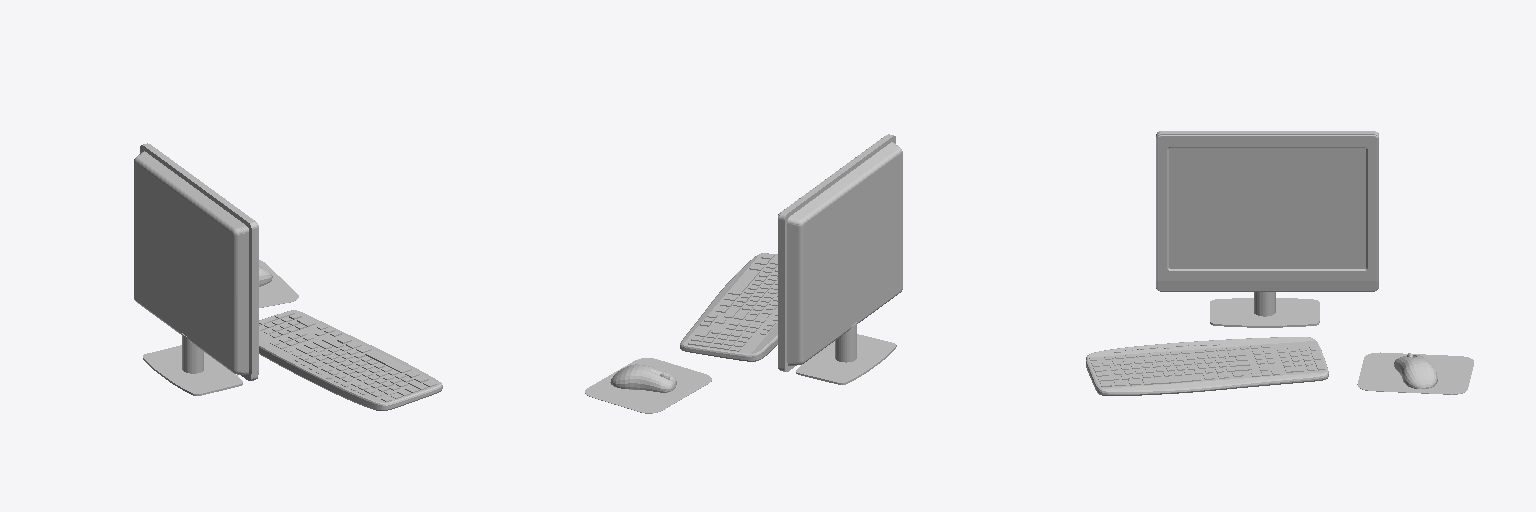
The model's file is monitor.obj.
The picture shows the model from 3 angles: view 1: azimuth 30°, elevation 25°; view 2: azimuth 150°, elevation 25°; view 3: azimuth 270°, elevation 25°; orthographic projection.
Parts seen in each view (by area): view 1: 3d-model.002_3d-model.011; view 2: 3d-model.002_3d-model.011; view 3: 3d-model.002_3d-model.011.
Boxes of the visible parts, <box> form: 3d-model.002_3d-model.011: <box>134,143,442,410</box>; 3d-model.002_3d-model.011: <box>585,134,902,413</box>; 3d-model.002_3d-model.011: <box>1086,131,1473,395</box>.
Size of the model in its own units: 3.42 by 3.05 by 5.81.